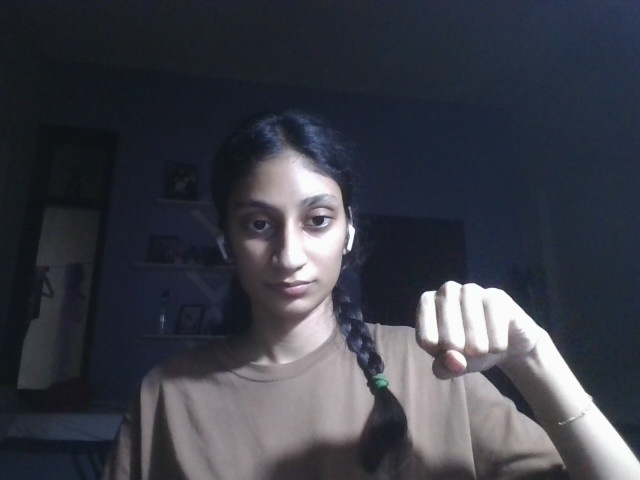yes: (414, 278, 550, 384)
